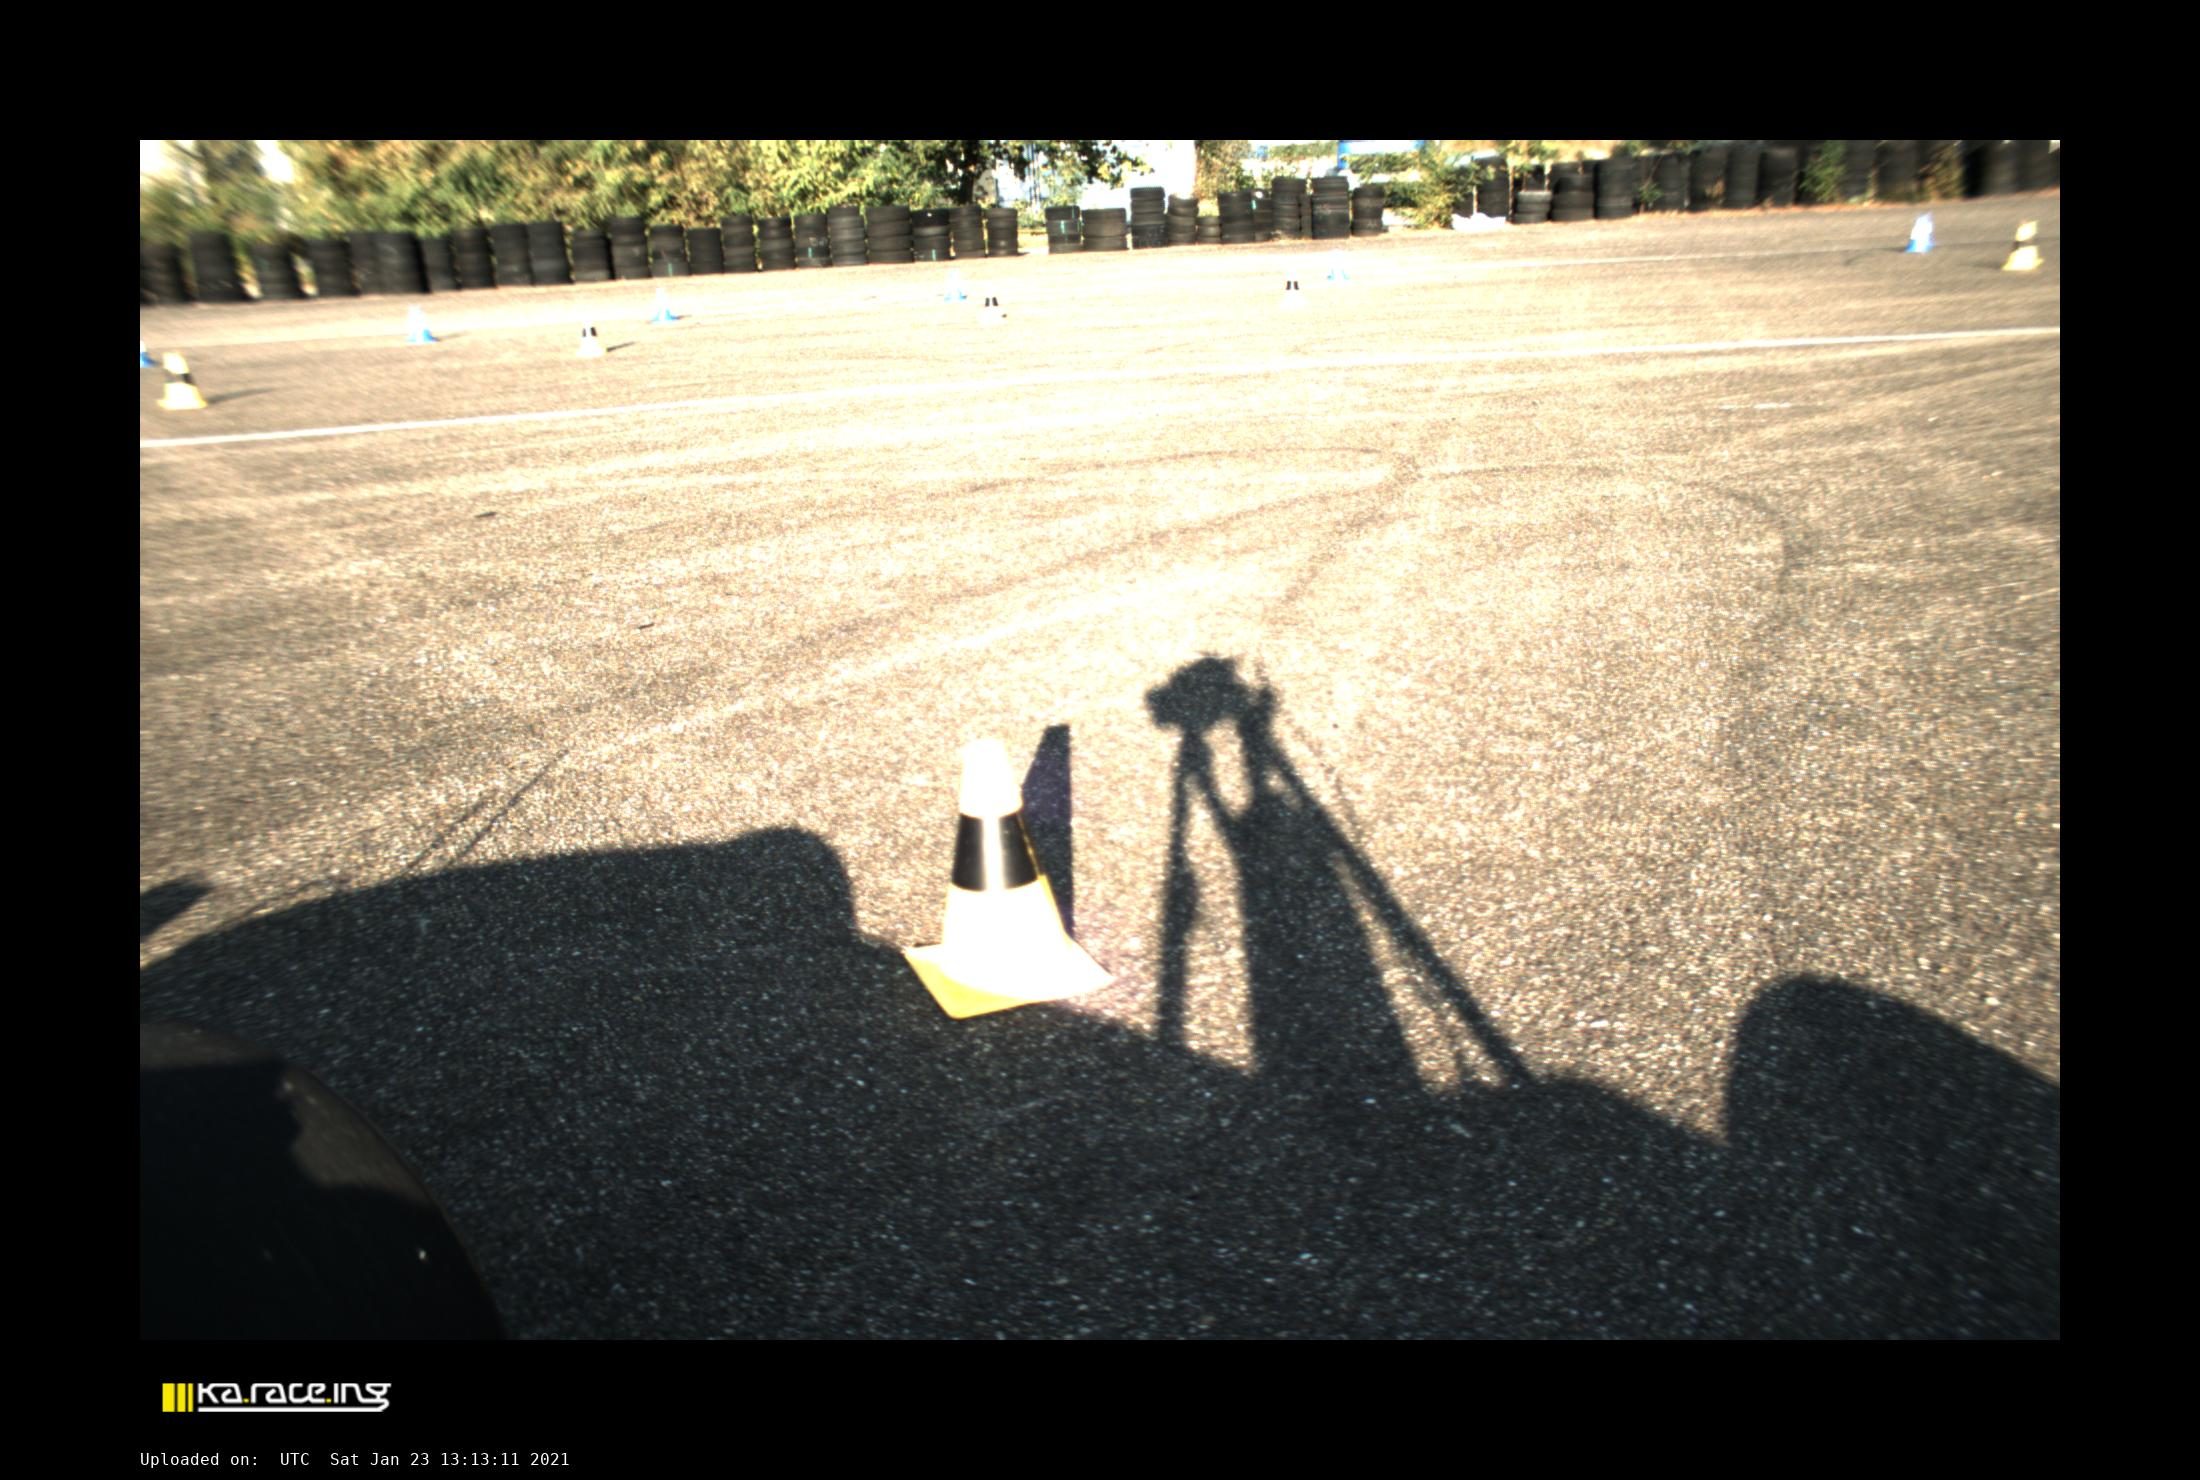blue_cone: (406, 307, 434, 340), (651, 289, 679, 320), (1908, 216, 1932, 251), (941, 268, 965, 299), (1326, 249, 1348, 281), (140, 334, 155, 363)
yellow_cone: (898, 735, 1117, 1021), (159, 353, 206, 410), (2007, 223, 2043, 269), (575, 319, 606, 355), (978, 287, 1008, 325), (1278, 273, 1306, 309)
